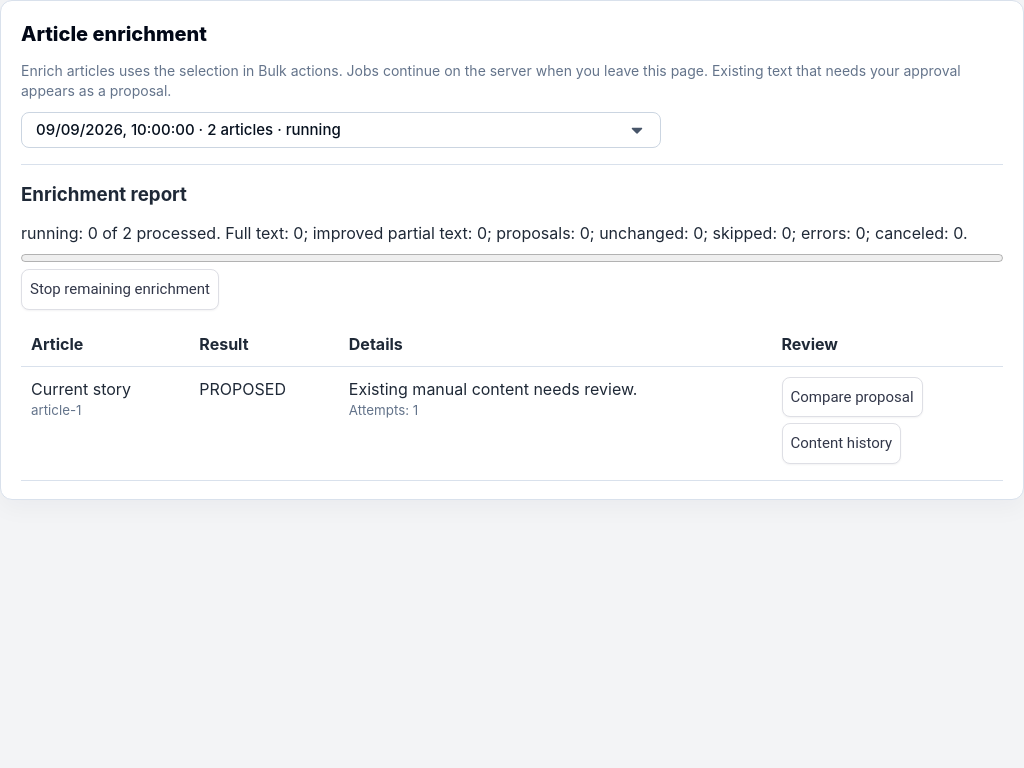
Test: persistent article enrichment › retains a comparison on a conflict and allows dismissing the proposal without applying it
This screenshot has width=1024, height=768.
Check: the element with class "raw_news_bulk__results" is shown, box [21,322,1003,481]
Click the button "Compare proposal" at coordinates (852, 397), box [782,377,923,417]
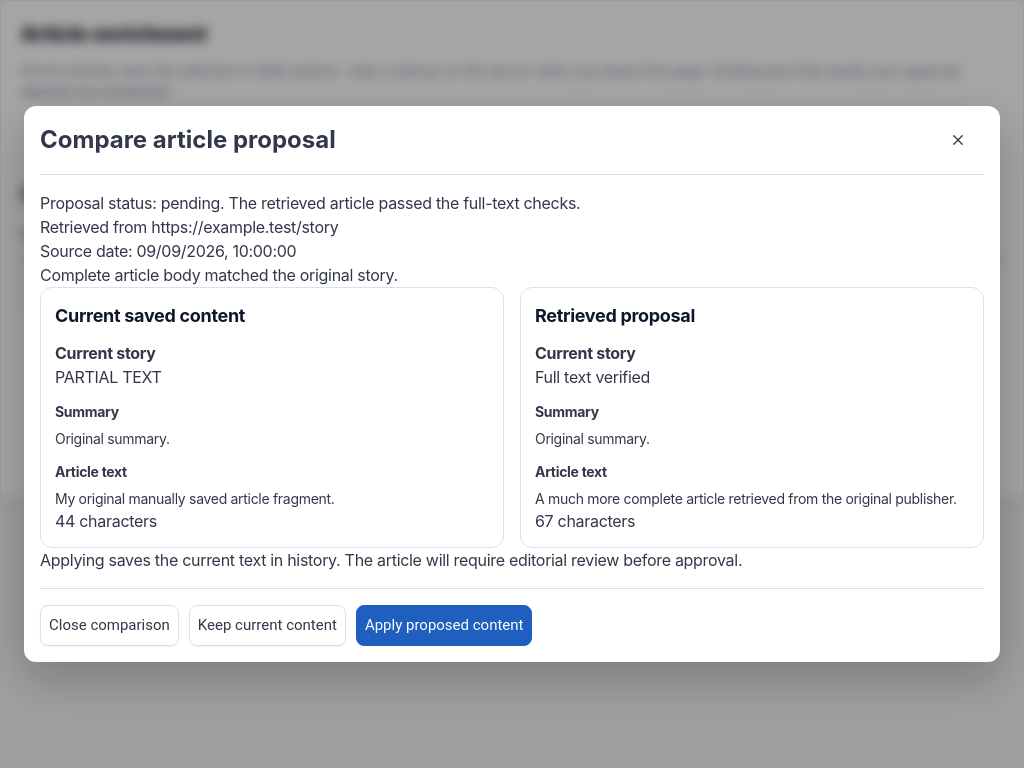
Check: the button "Apply proposed content" is enabled
Check: the button "Apply proposed content" is shown
Click the button "Apply proposed content" at coordinates (444, 626), box [356,605,532,646]
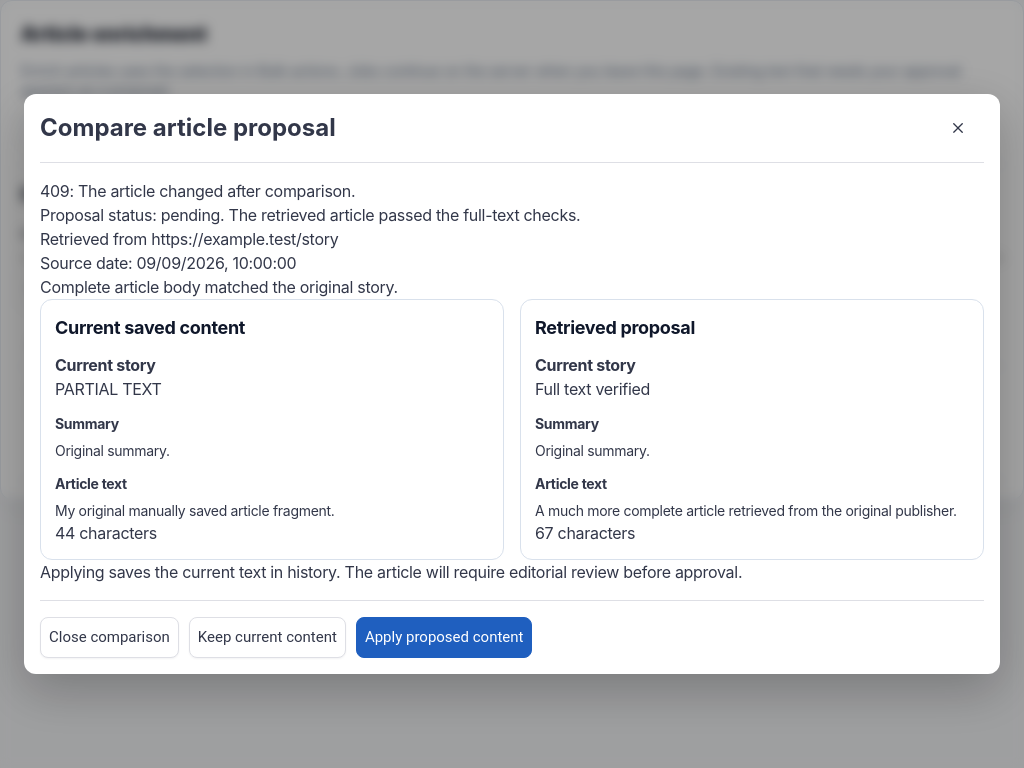
Check: the dialog is shown
Check: the button "Keep current content" is enabled
Check: the text "409: The article changed" is shown, box [40,181,355,201]
Click the button "Keep current content" at coordinates (267, 638), box [189,617,346,658]
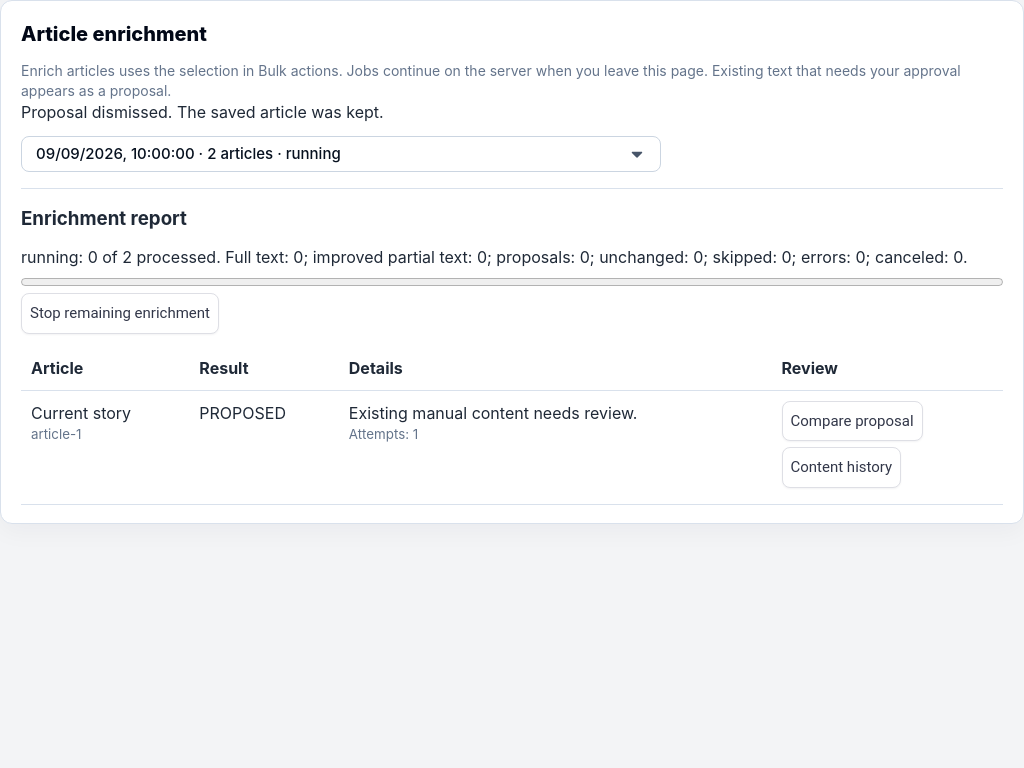
Check: the text "Proposal dismissed" is shown, box [21,102,384,122]
